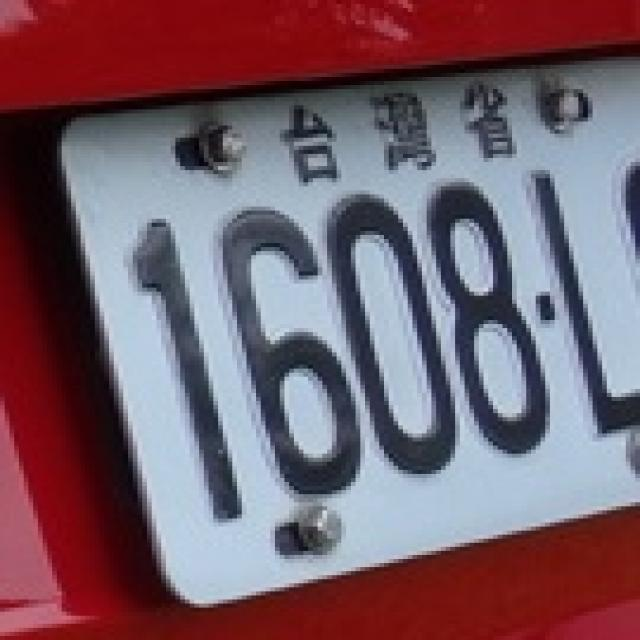licenseplate: (11, 31, 640, 615)
